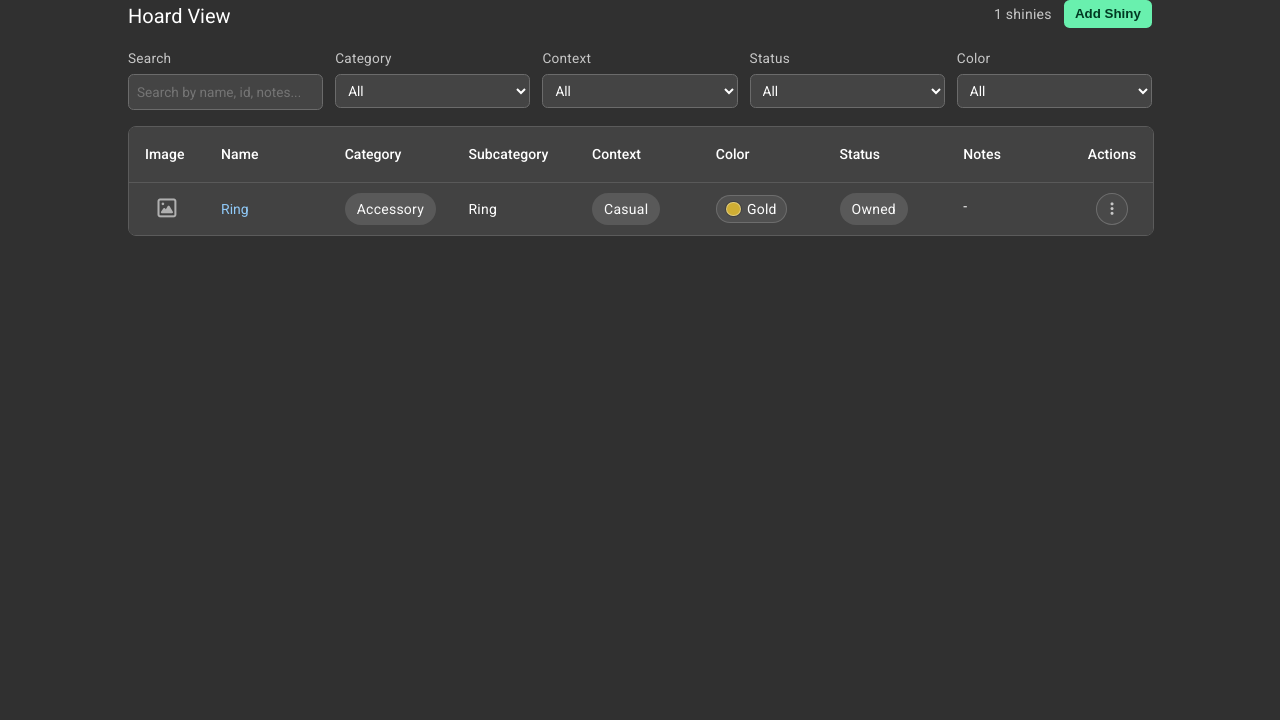
Test case: HoardViewComponent › opens add shiny modal from add button
Click the button with class "add-shiny-button". click: coordinates (1108, 14)
box: [1064, 0, 1152, 28]
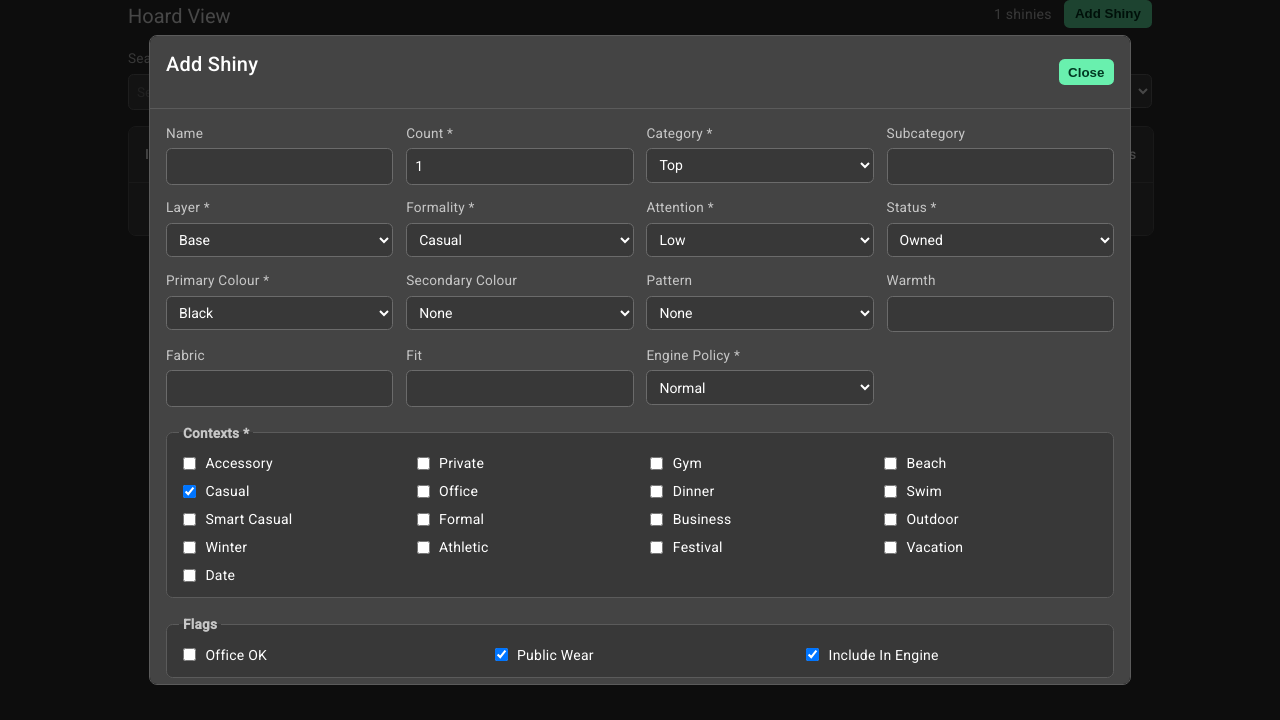
Expected: the dialog with class "add-shiny-modal" is shown
